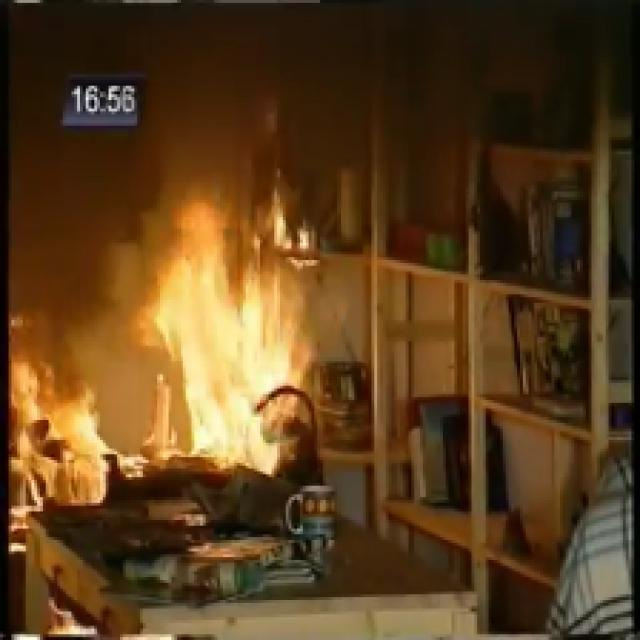Fire: (15, 242, 308, 481)
